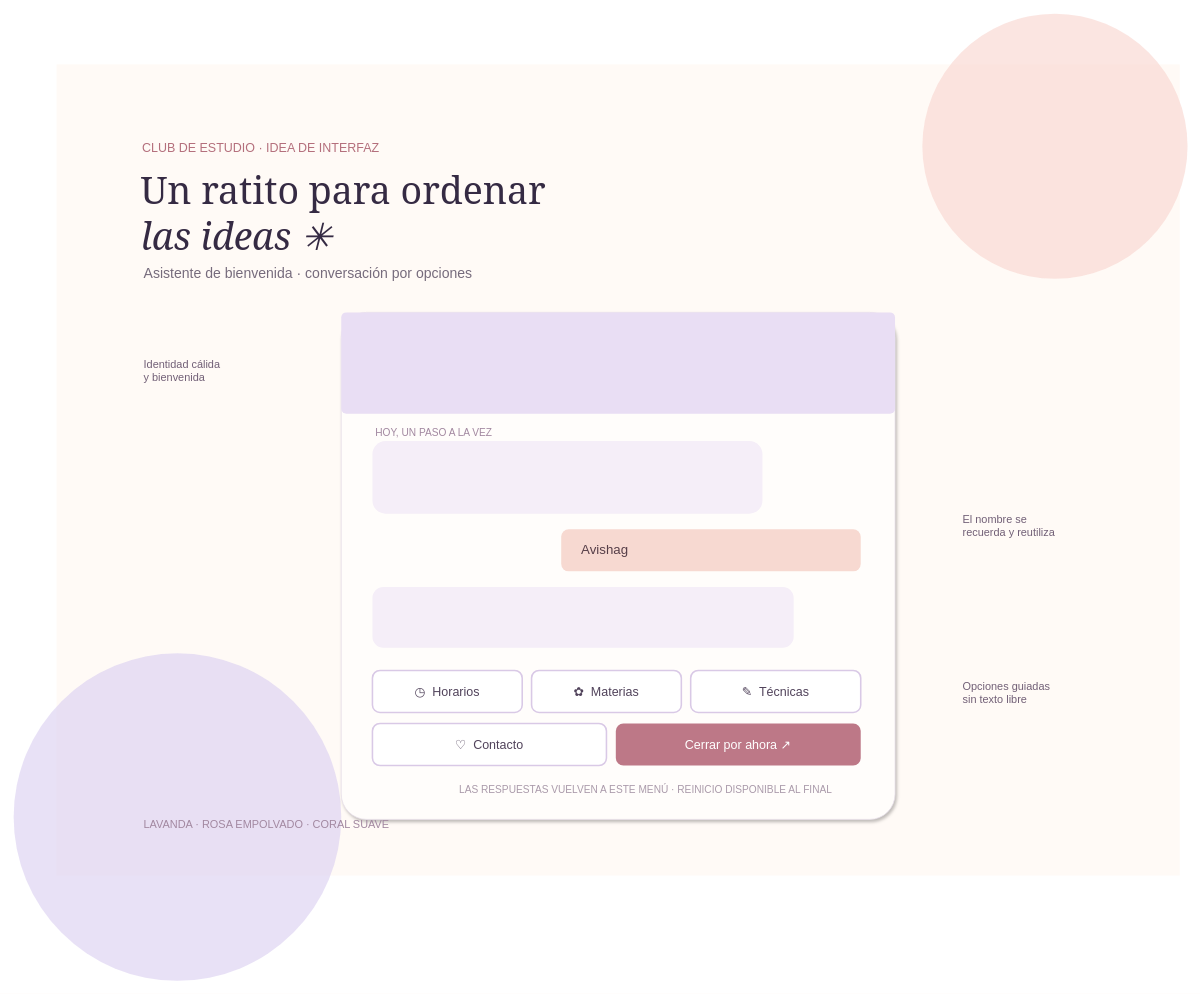
Image size: 1200x994. Some labels were removed from this diagram. Here are the shapes that lost their labels. From the top down, the centre of each, then its label:
(x=618, y=362): 🌷 Lila GUÍA DEL CLUB · DISPONIBLE
(x=567, y=477): ¡Hola! Soy Lila, la guía del club. 🌷 ¿Cómo te llamás?
(x=582, y=617): ¡Qué lindo tenerte, Avishag! ✨ ¿Qué te gustaría consultar?
